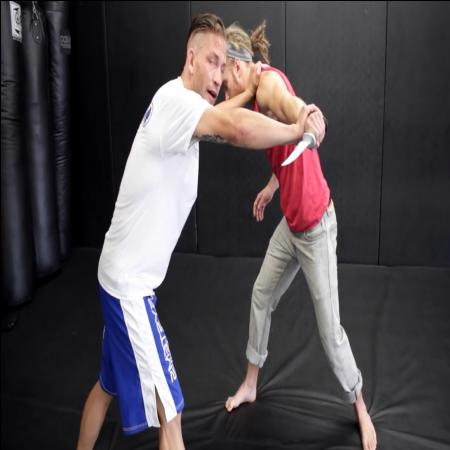long weapon: (276, 111, 330, 169)
